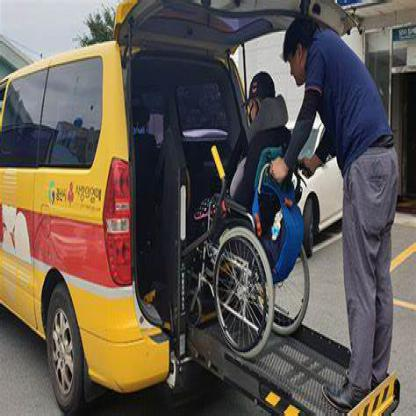wheelchair: (190, 69, 313, 362)
